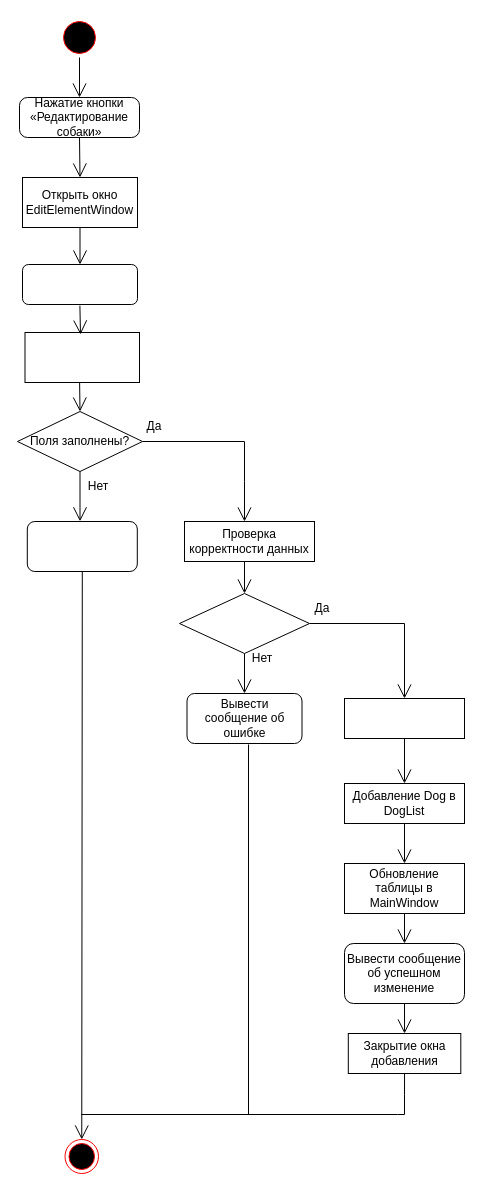
The diagram is 482 pixels wide and 1191 high, and some of its shapes have lost their labels. The box of each missing label's shape, as (x1, y1, x2, y2) in pixels:
Вывод сообщения об ошибке ввода: (26, 520, 137, 572)
Данные корректны?: (178, 592, 310, 654)
Проверка заполненности полей: (24, 332, 140, 382)
Редактирование данных о собаке: (22, 264, 138, 304)
Редактирования объекта Dog: (344, 698, 464, 738)
